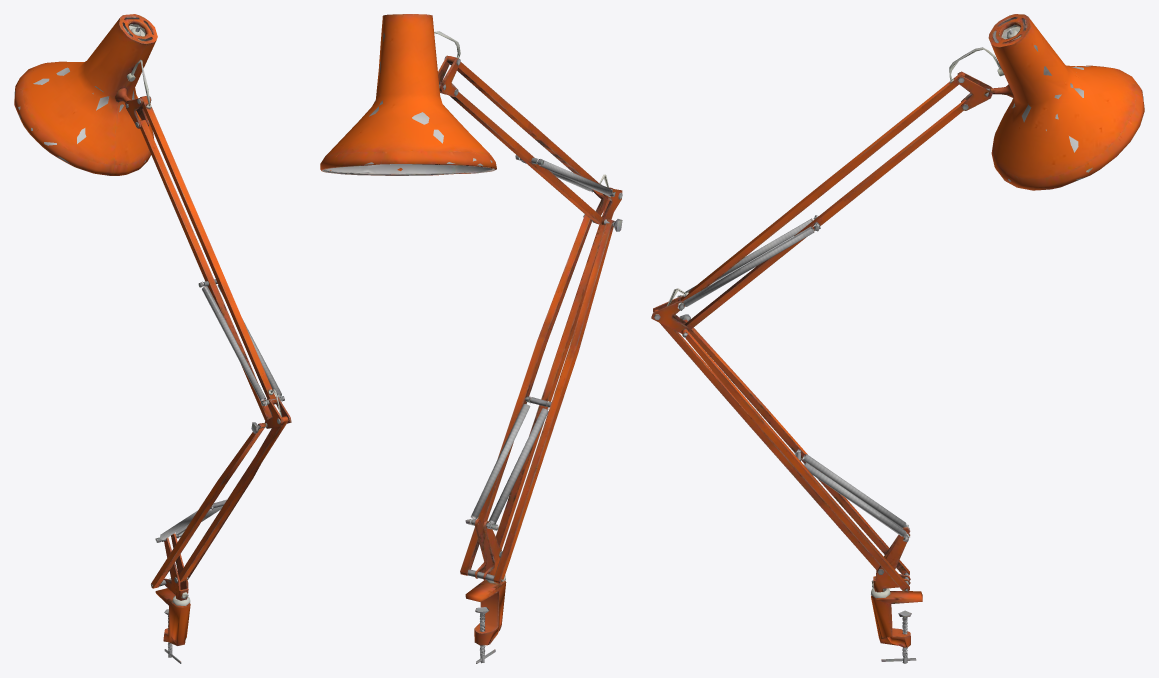
Rendered from desk_lamp_arm_01.glb.
The picture shows the model from 3 angles, left to right: view 1: azimuth 30°, elevation 25°; view 2: azimuth 150°, elevation 25°; view 3: azimuth 270°, elevation 25°; orthographic projection. The views are drawn at different scales.
Parts seen in each view (by area): view 1: desk_lamp_arm_01; view 2: desk_lamp_arm_01; view 3: desk_lamp_arm_01.
Part boxes in pixels (x1,y1,x2,y2): desk_lamp_arm_01: [14, 14, 291, 663]; desk_lamp_arm_01: [320, 14, 622, 663]; desk_lamp_arm_01: [651, 14, 1144, 663].
Bounding box in the file's own units: 0.2017 × 0.8926 × 0.6132.
Materials: 2 (2 with a texture image).
